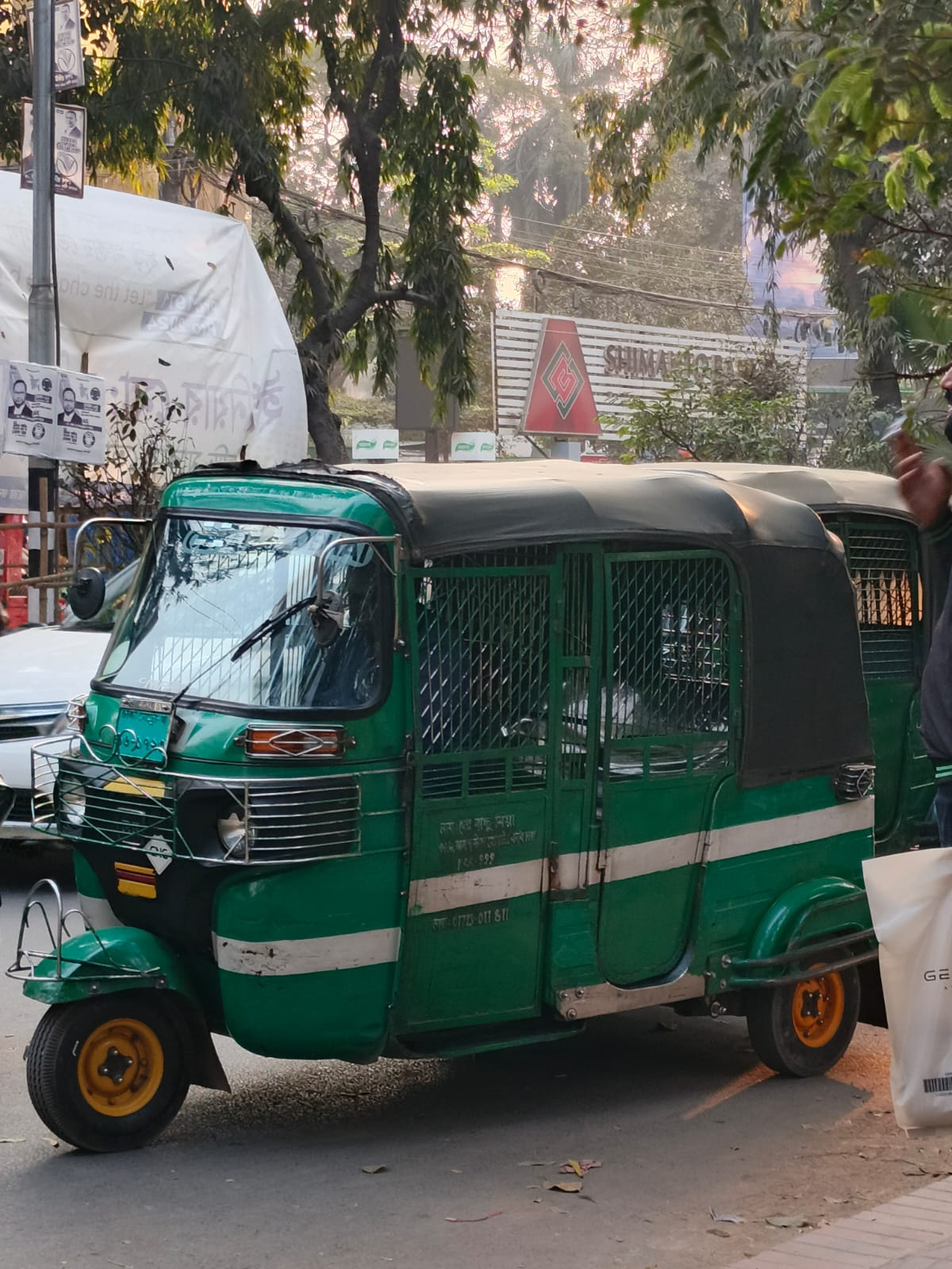cng: (21, 429, 916, 1189)
private car: (5, 536, 180, 836)
